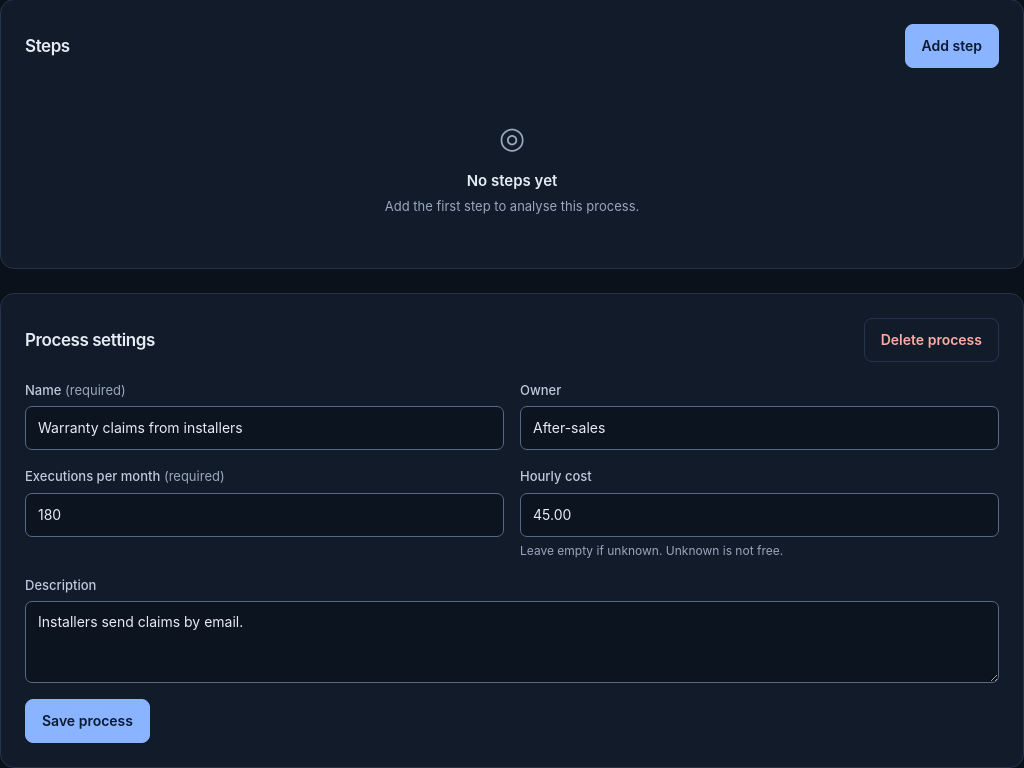
Test: the process settings › save, then show the saved values and the new version; an empty hourly cost saves as unknown (RS-74, criterion 6)
(page scrolled)
Check: the field labelled "Hourly cost" holds "45.00", box [520,492,999,536]
Replace the text in the field labelled "Name (required)" with "Warranty claims" at [264, 428], box [25,406,504,450]
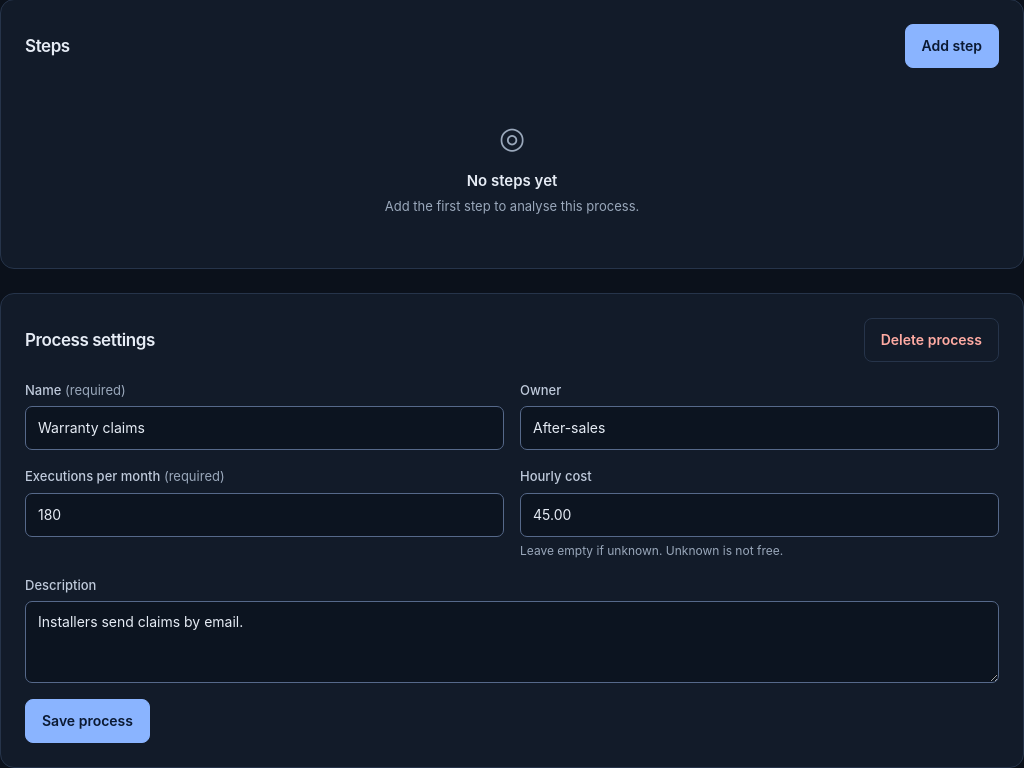
Replace the text in the field labelled "Owner" with "Service desk" at [760, 428], box [520,406,999,450]
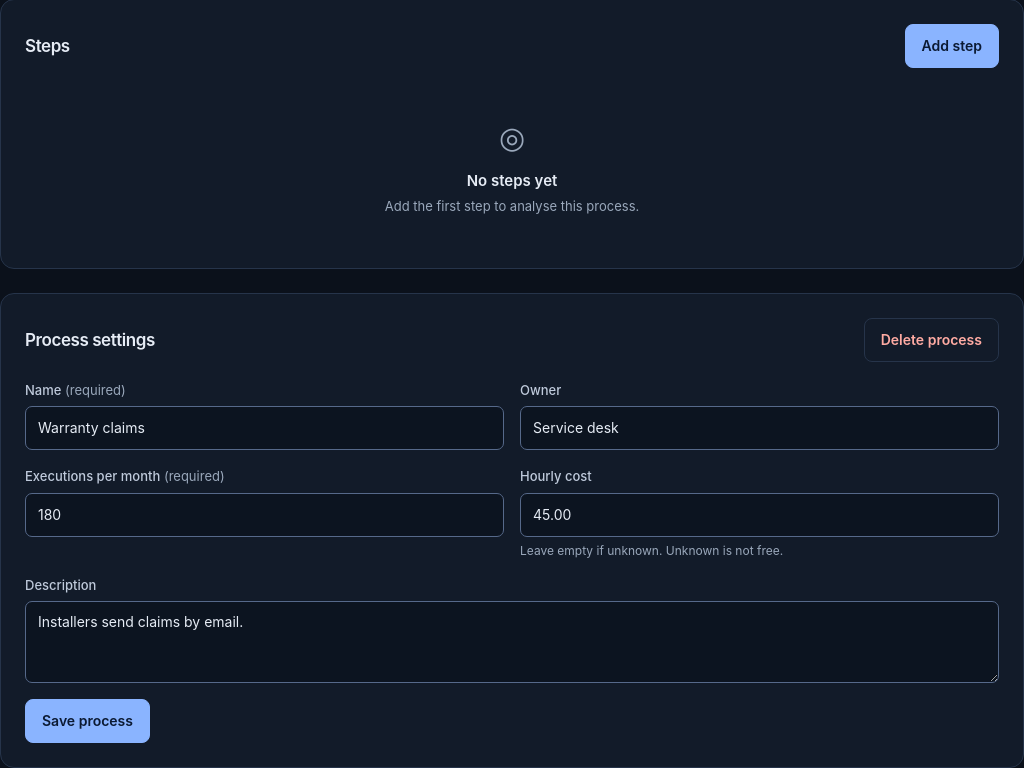
Replace the text in the field labelled "Executions per month (required)" with "220" at [264, 514], box [25,492,504,536]
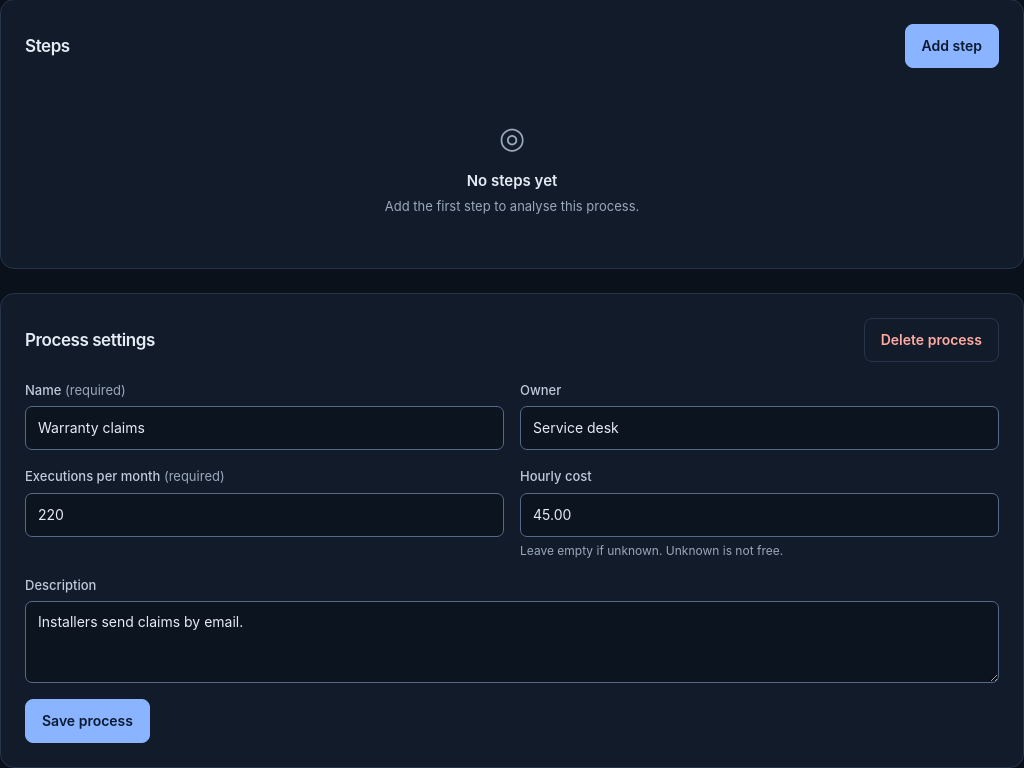
Clear the field labelled "Hourly cost" at [760, 514], box [520,492,999,536]
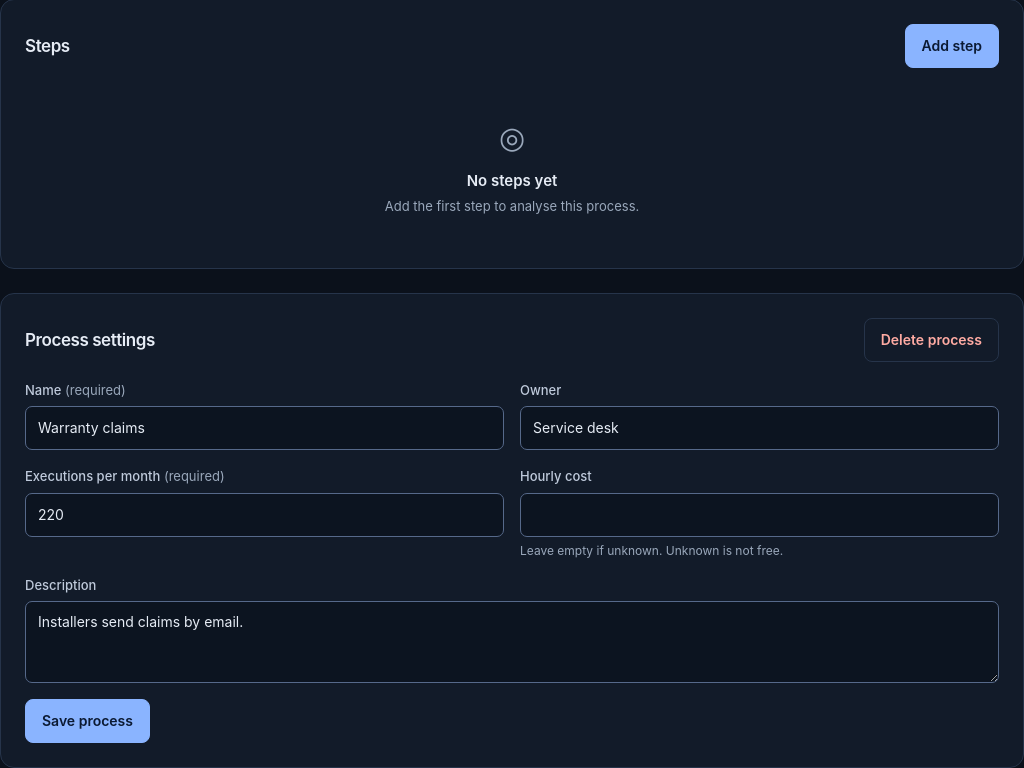
Replace the text in the text box labelled "Description" with "Claims by email and phone." at [512, 642], box [25,601,999,683]
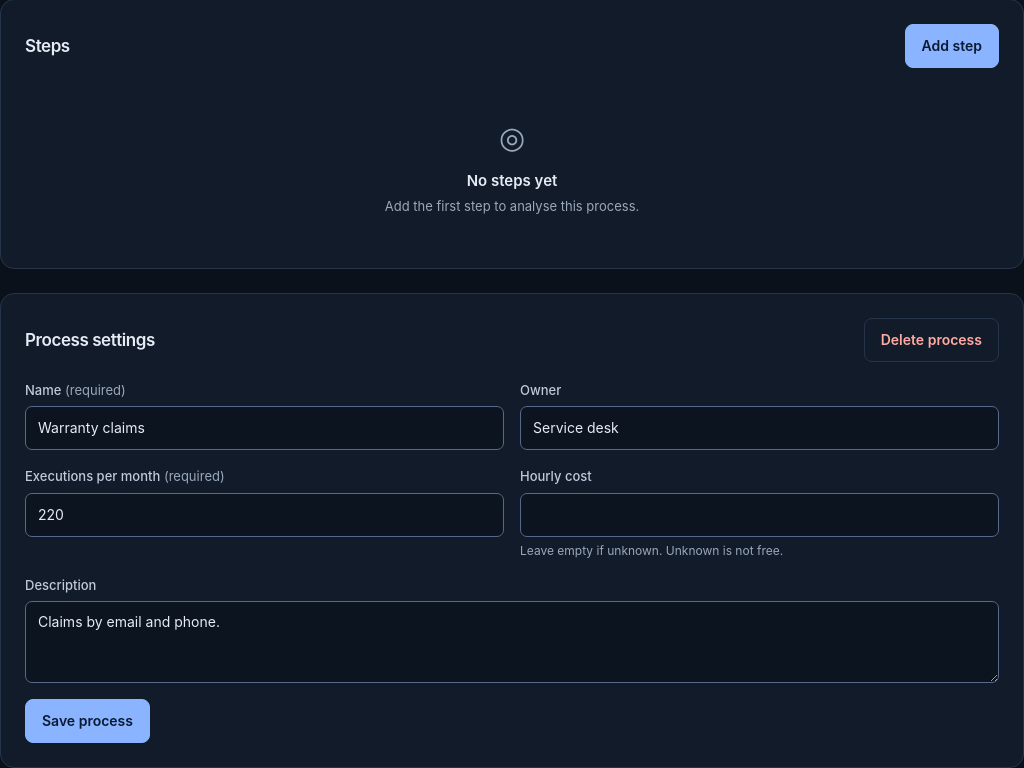
Click the button "Save process".
click(88, 721)  # box [25,699,150,743]
(page scrolled)
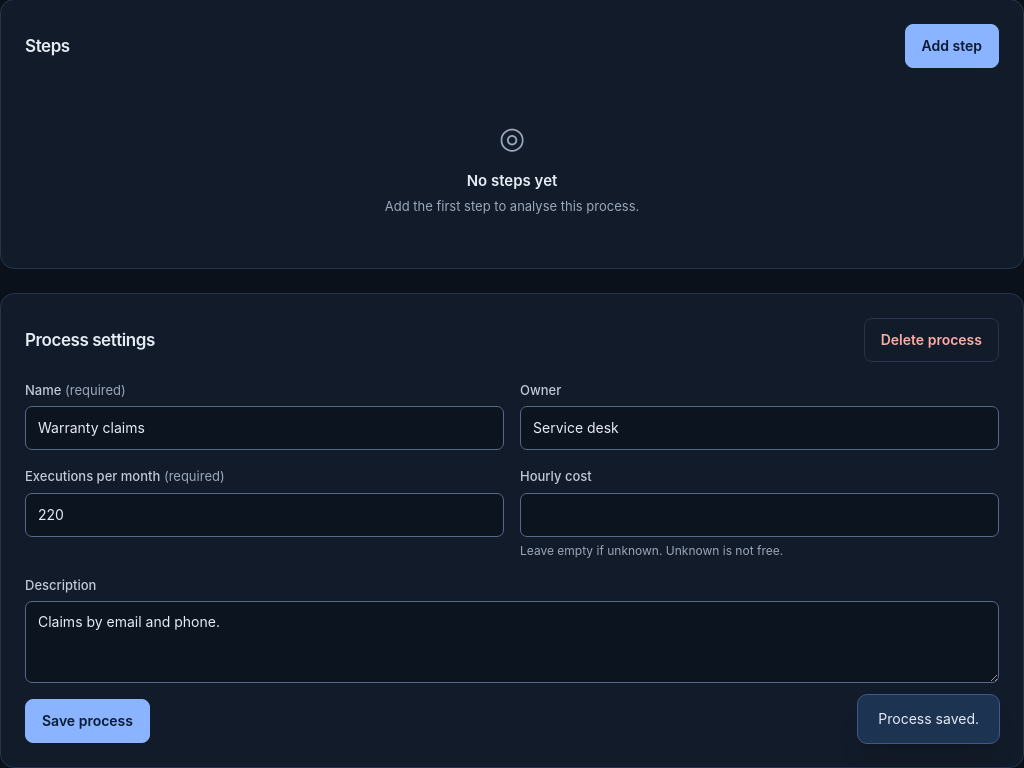
Check: the message reads "Process saved.", box [878,710,979,727]
